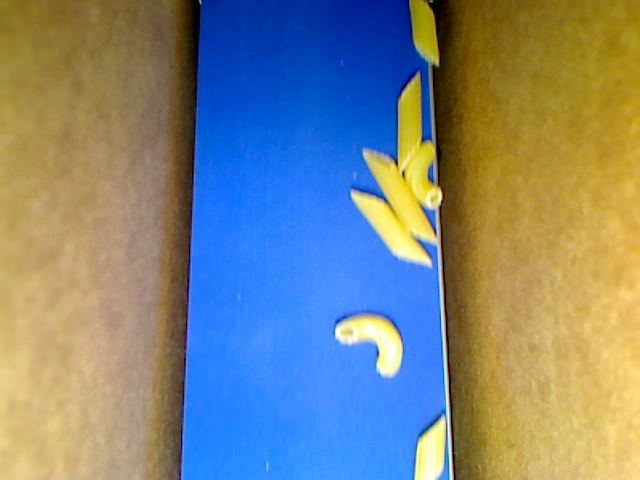elbow: (334, 313, 404, 378), (405, 141, 443, 208)
penne: (362, 147, 438, 242), (350, 189, 433, 265), (397, 72, 421, 171), (413, 414, 446, 479), (409, 1, 439, 69)
